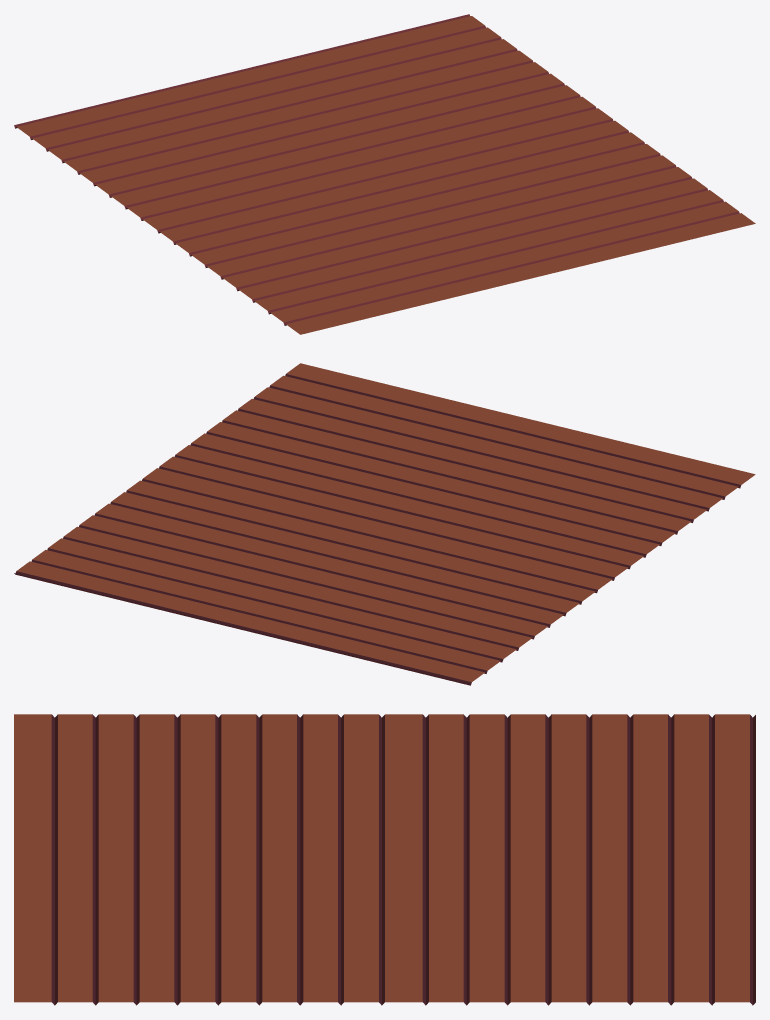
File: Floor_0.fbx
3 renders of one model, top to bottom at view 1: azimuth 30°, elevation 25°; view 2: azimuth 150°, elevation 25°; view 3: azimuth 270°, elevation 25°, orthographic. The views are drawn at different scales.
Visible parts, largest first — view 1: Plane; view 2: Plane; view 3: Plane.
Part boxes in pixels (x1,y1,x2,y2): Plane: [14, 14, 755, 334]; Plane: [14, 363, 755, 685]; Plane: [14, 714, 755, 1005].
Size of the model in its own units: 10 by 0.0546 by 10.89.
1 material, 1 textured.
